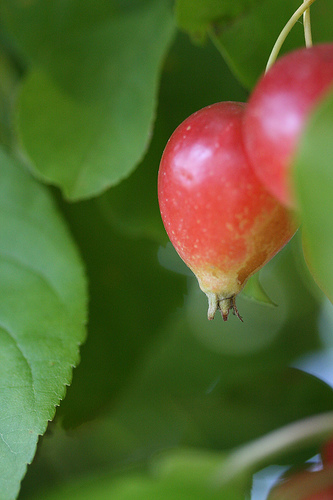apple: (160, 100, 296, 306)
